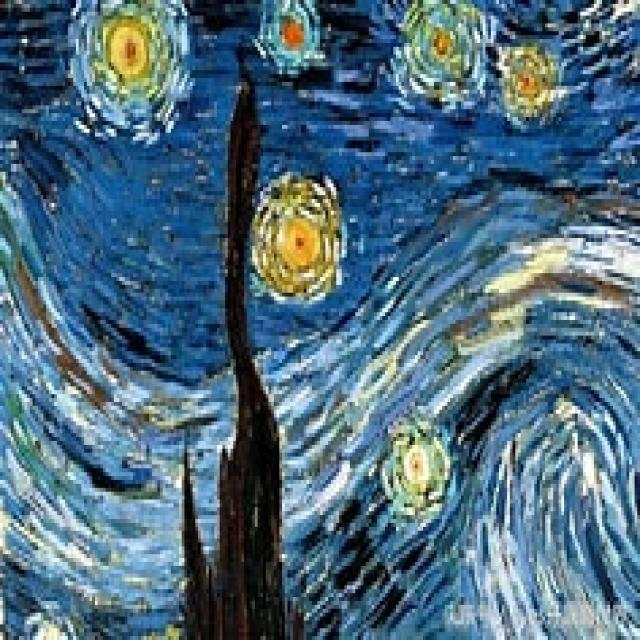starrynight: (6, 5, 636, 630)
